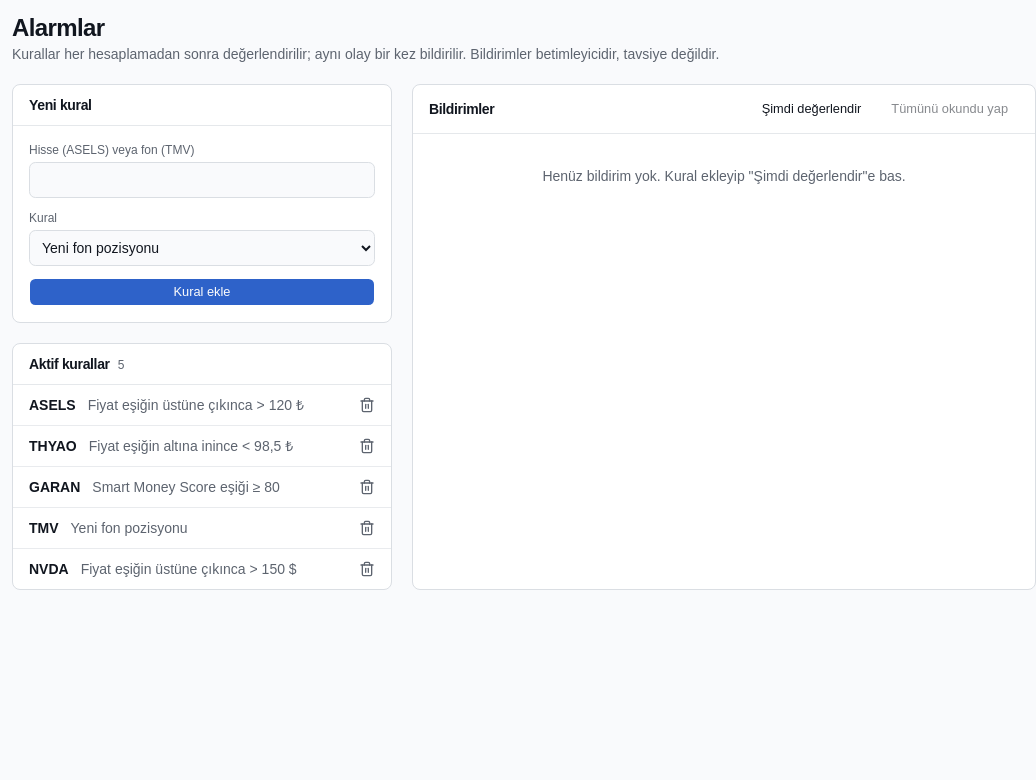
Test: AlertsPage price rules › refuses an empty, zero or negative price without sending anything
Step 1. Select "Fiyat eşiğin üstüne çıkınca" in the dropdown → {"x": 202, "y": 248}, box 29,230 -> 375,266
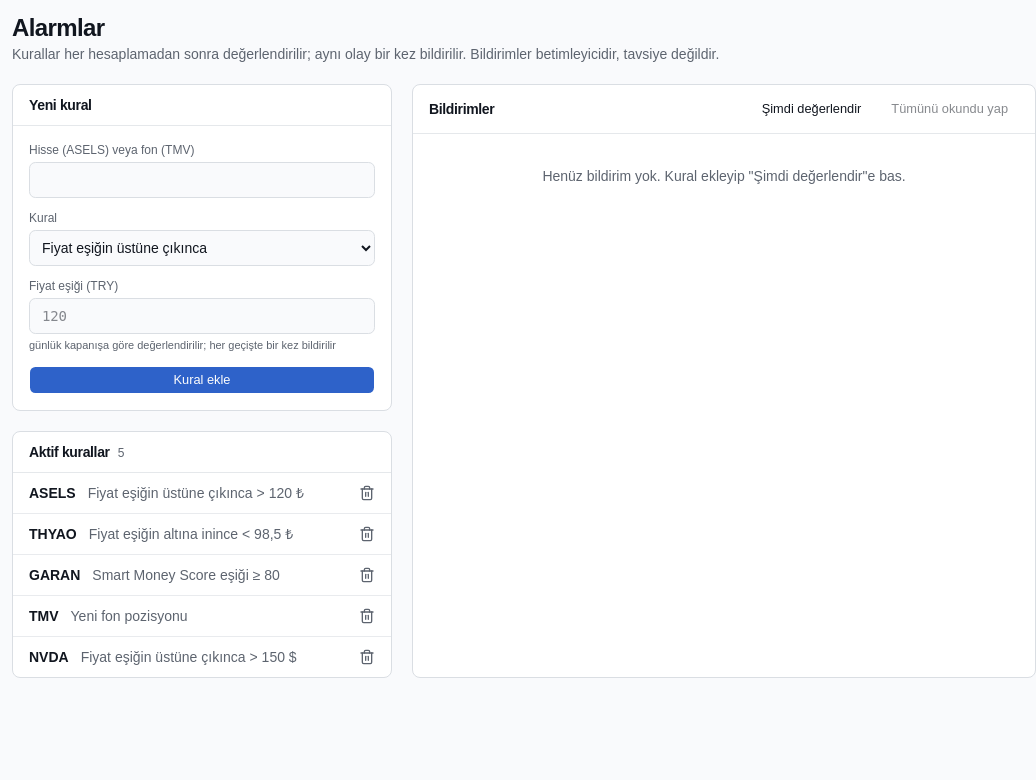
Step 2. Type "ASELS" into the field → {"x": 202, "y": 180}, box 29,162 -> 375,198
Step 3. Click the button "Kural ekle" → {"x": 202, "y": 380}, box 29,366 -> 375,394
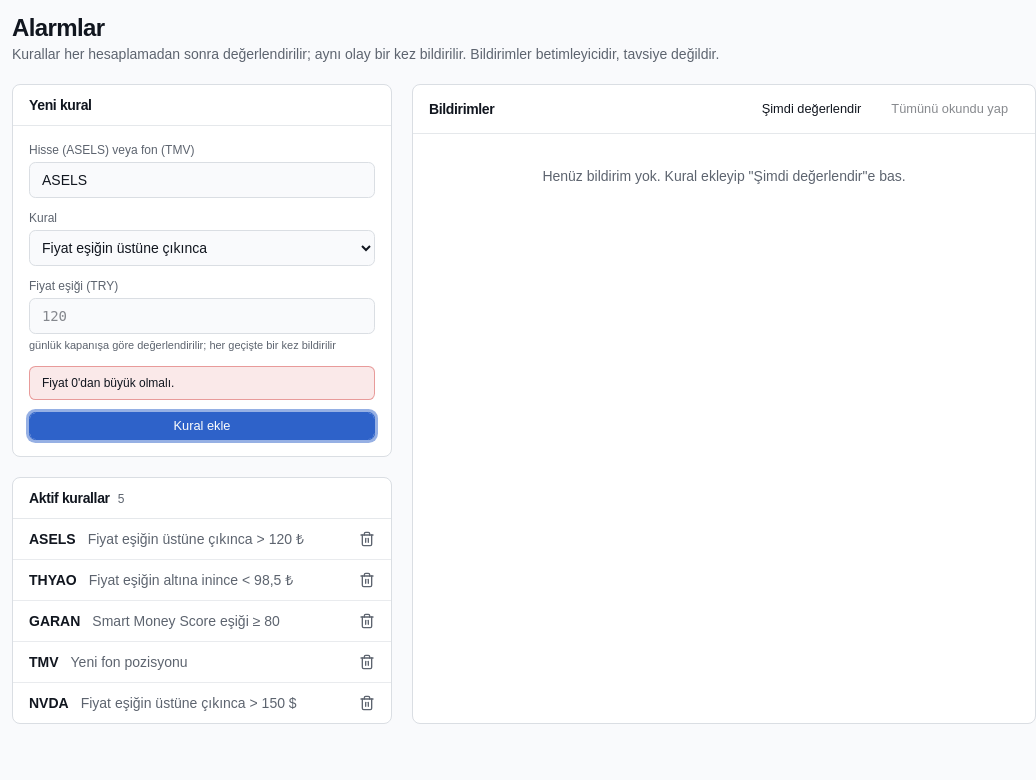
Expected: the message reads "Fiyat 0'dan büyük olmalı.", 42,376 -> 174,390
Step 4. Type "0" into the number field → {"x": 202, "y": 316}, box 29,298 -> 375,334
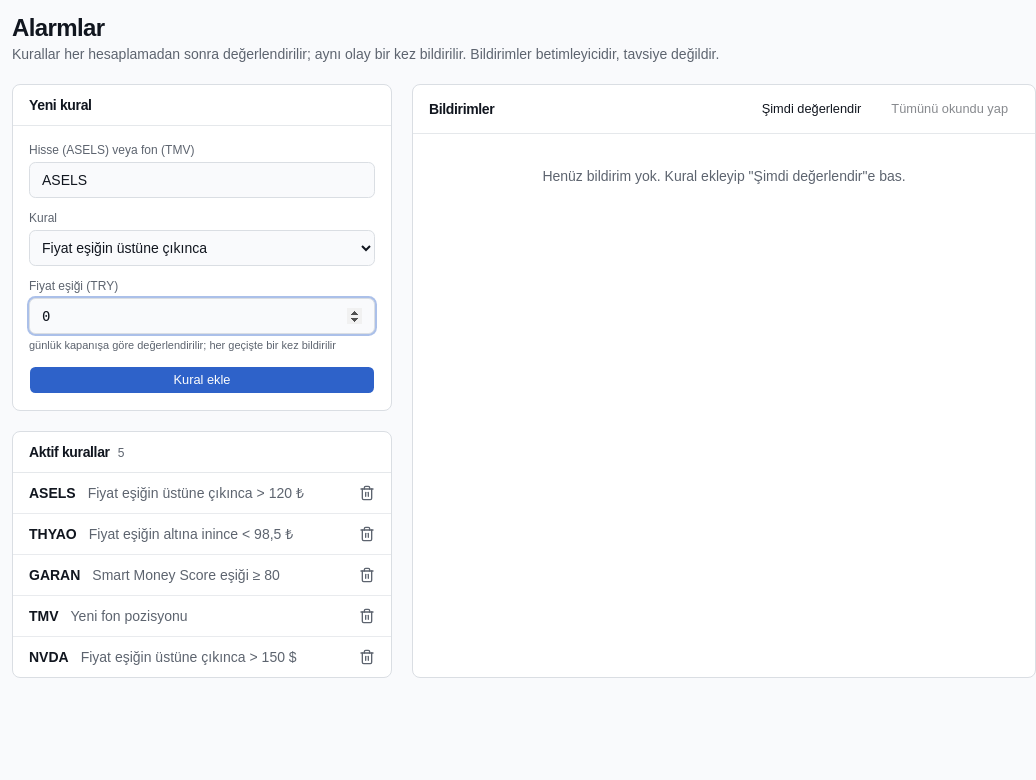
Step 5. Click the button "Kural ekle" → {"x": 202, "y": 380}, box 29,366 -> 375,394
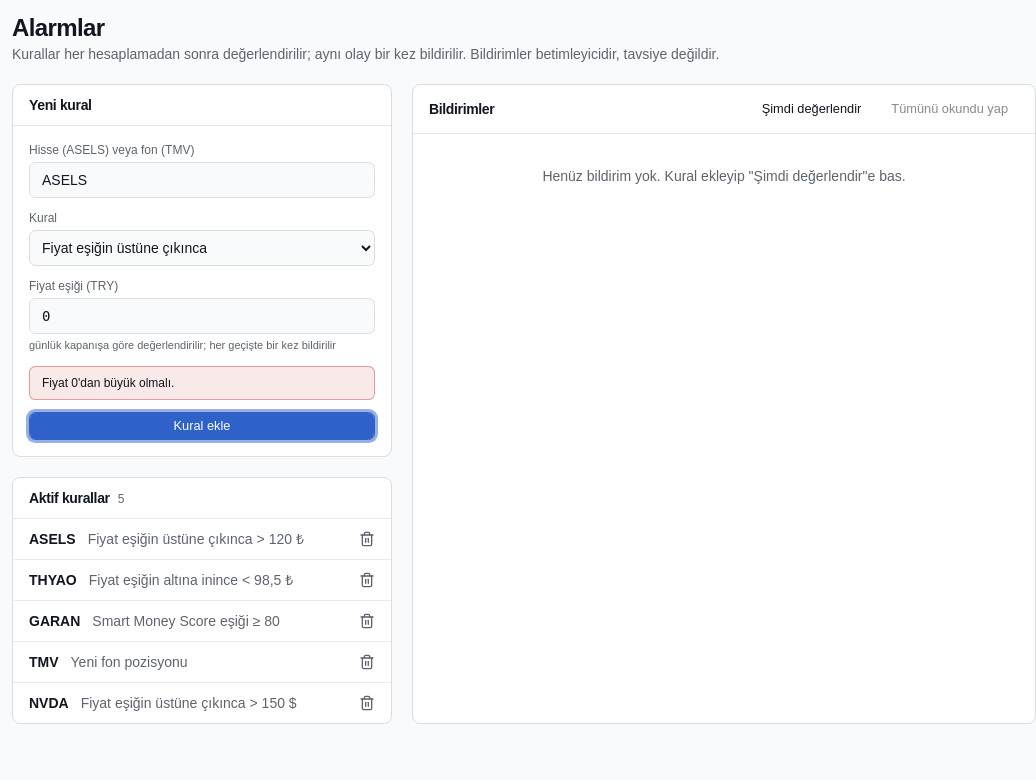
Expected: the message reads "Fiyat 0'dan büyük olmalı.", 42,376 -> 174,390
Step 6. Replace the text in the number field with "-5" → {"x": 202, "y": 316}, box 29,298 -> 375,334
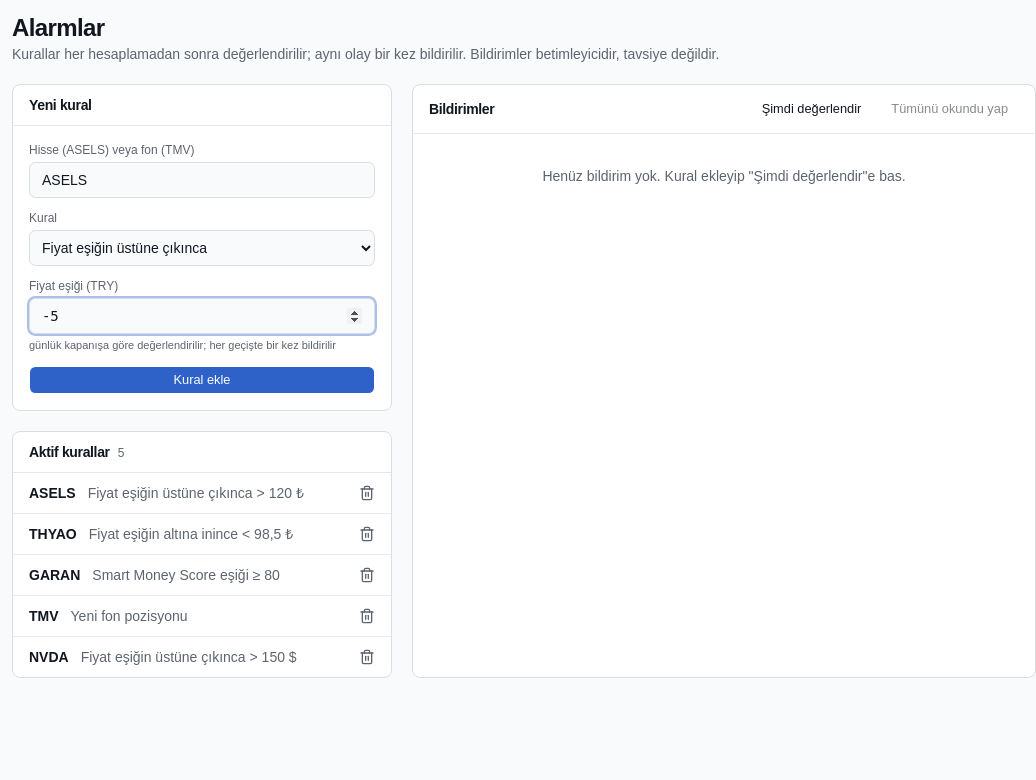
Step 7. Click the button "Kural ekle" → {"x": 202, "y": 380}, box 29,366 -> 375,394
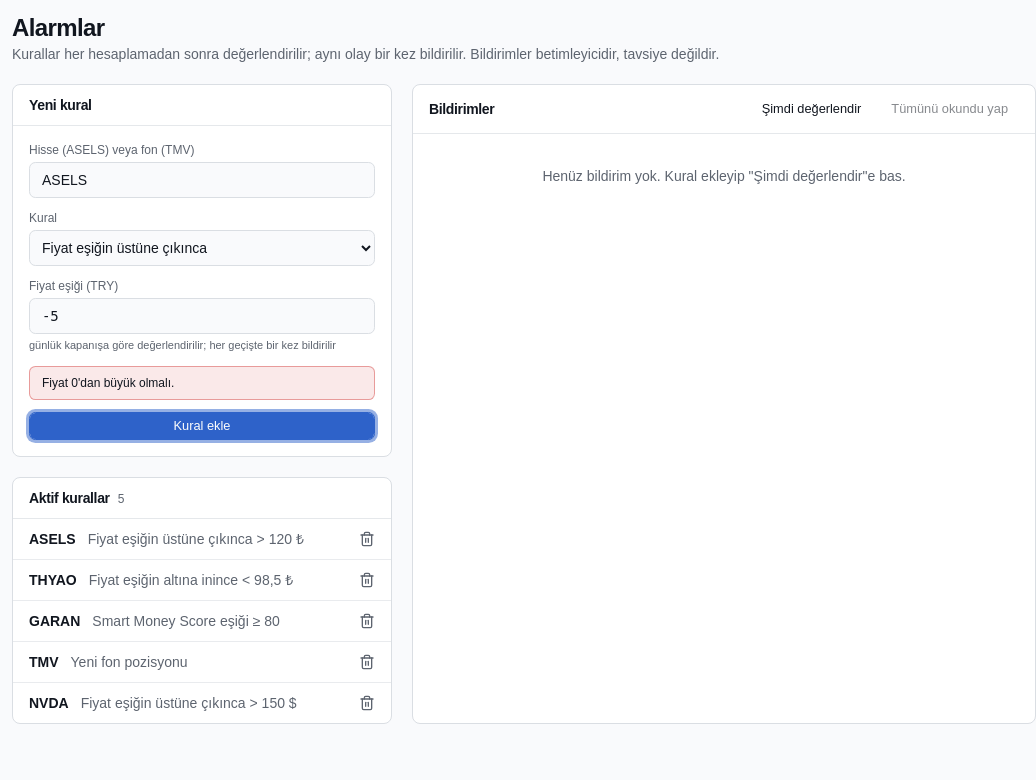
Expected: the message reads "Fiyat 0'dan büyük olmalı.", 42,376 -> 174,390
